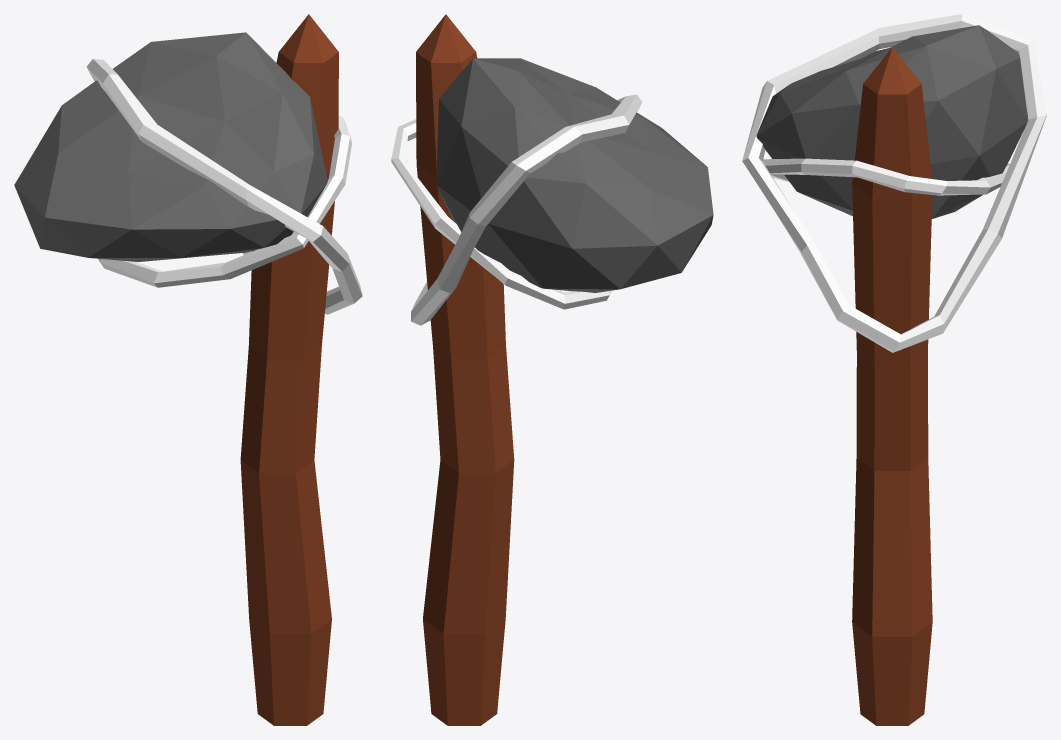
File: Axe.fbx
3 renders of one model, left to right at view 1: azimuth 30°, elevation 25°; view 2: azimuth 150°, elevation 25°; view 3: azimuth 270°, elevation 25°, orthographic. The views are drawn at different scales.
Parts seen in each view (by area): view 1: Icosphere.096, Cylinder.002, Cylinder.003; view 2: Icosphere.096, Cylinder.002, Cylinder.003; view 3: Cylinder.002, Icosphere.096, Cylinder.003.
Part boxes in pixels (<box>): Icosphere.096: <box>14,32,327,261</box>; Cylinder.002: <box>240,14,338,725</box>; Cylinder.003: <box>86,59,362,314</box>; Icosphere.096: <box>436,58,713,292</box>; Cylinder.002: <box>416,14,514,725</box>; Cylinder.003: <box>391,94,642,325</box>; Cylinder.002: <box>852,47,932,725</box>; Icosphere.096: <box>756,25,1028,218</box>; Cylinder.003: <box>742,14,1046,352</box>.
Size of the model in its own units: 651 by 1401 by 572.
